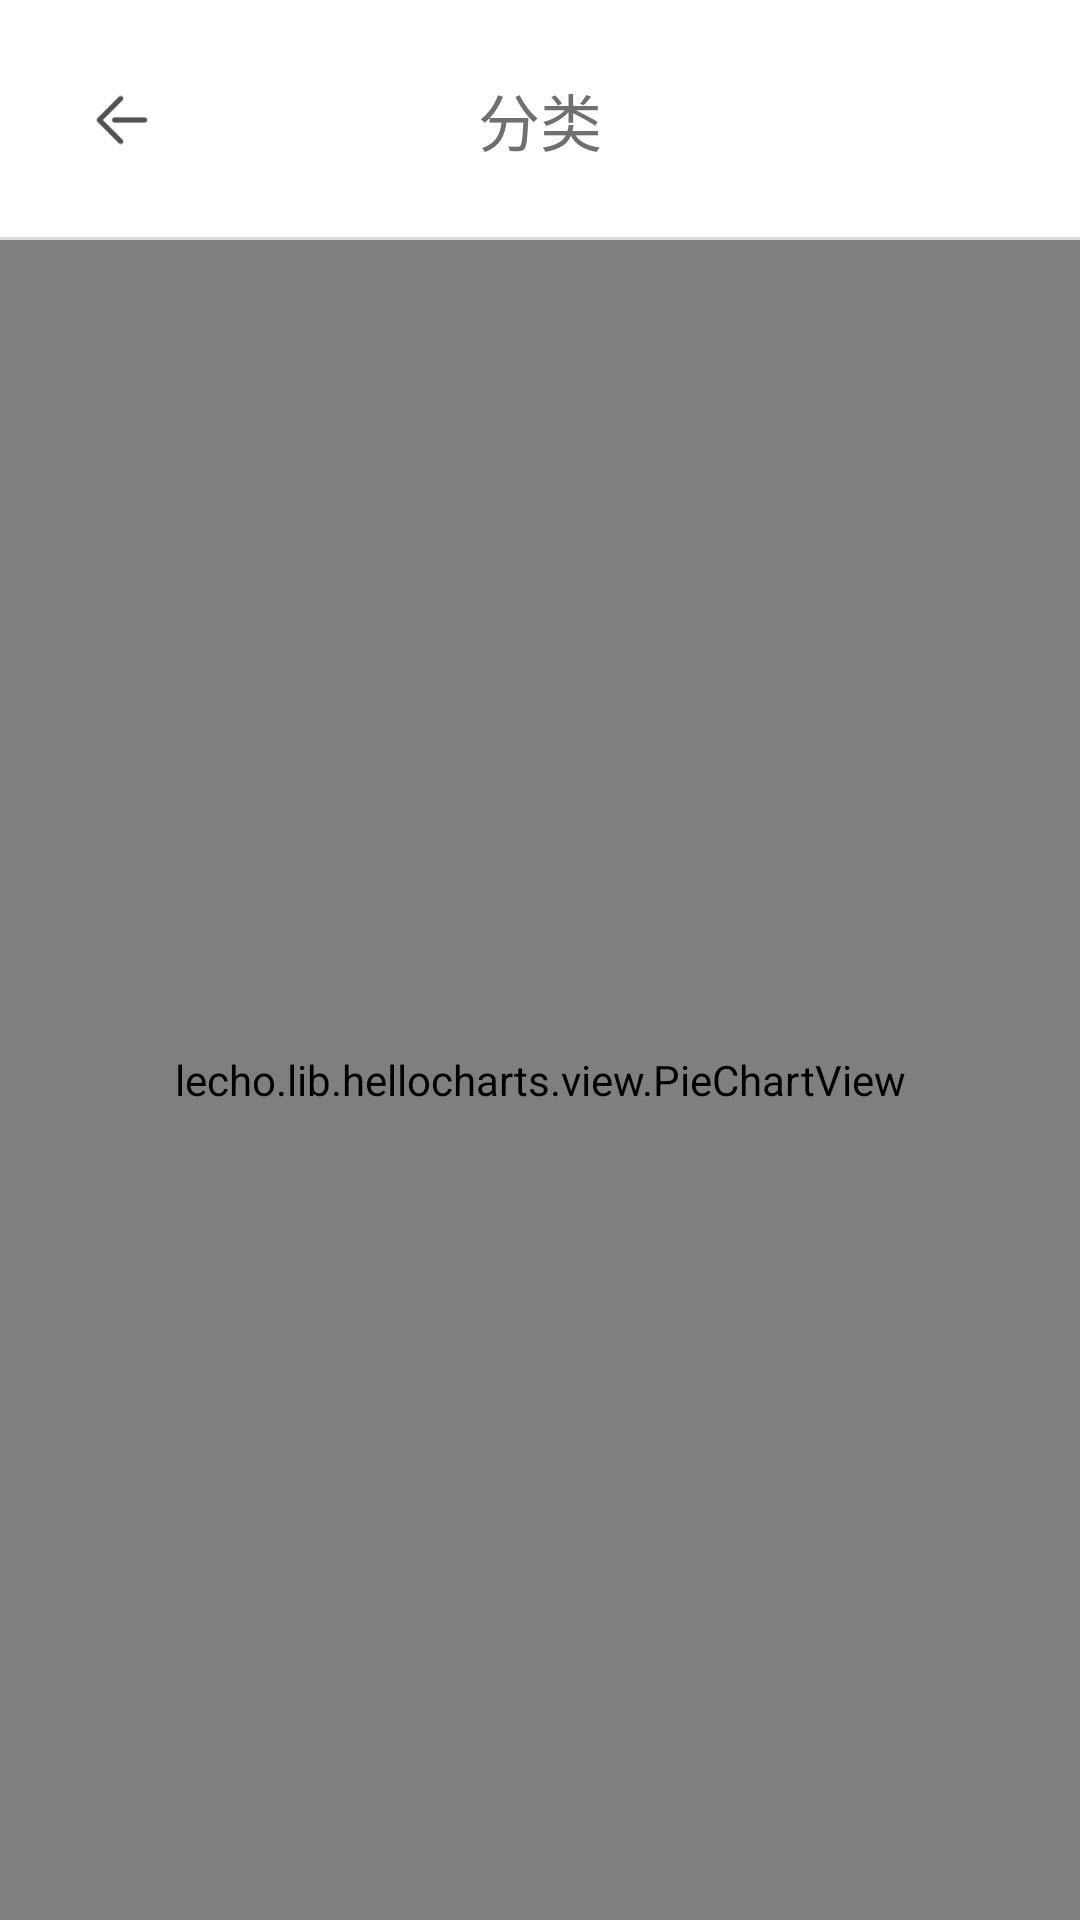

Named icons in this screenshot (1080x1920) and their bounding boxes, (x1, y1, x2, y2):
back: (96, 95, 148, 145)
